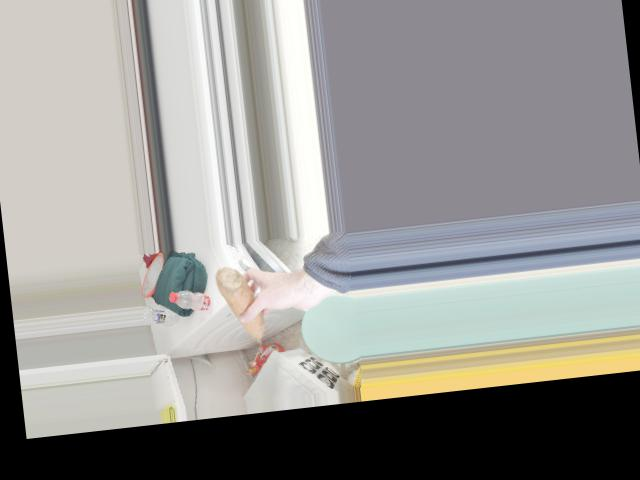sweet_potato: (212, 267, 272, 341)
